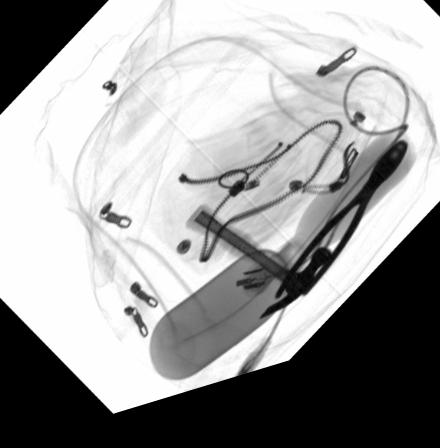Hammer: (181, 215, 330, 335)
Pliers: (272, 163, 408, 316)
